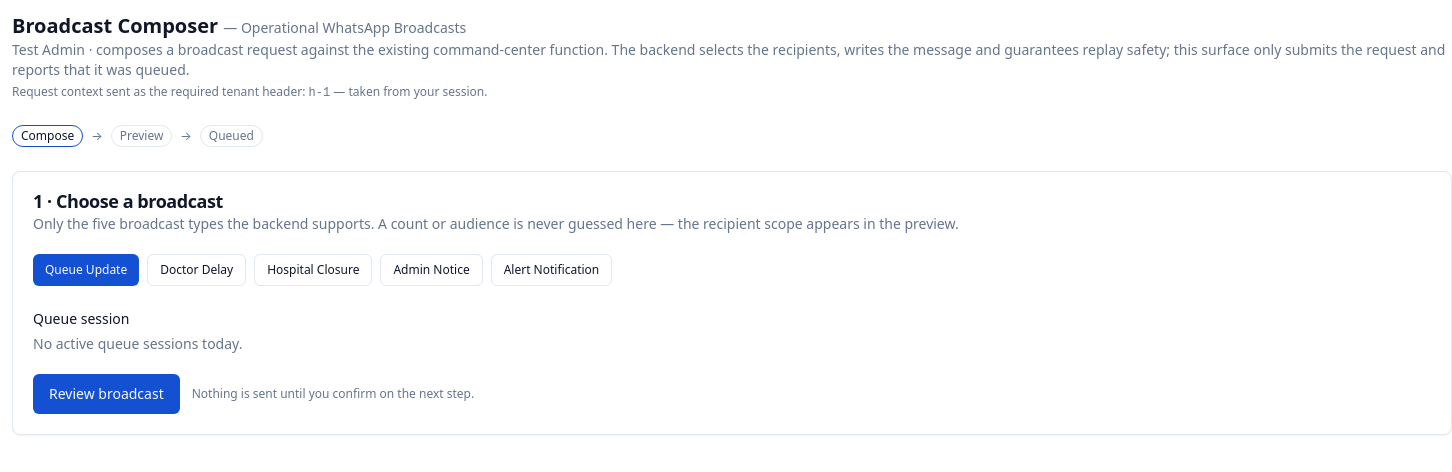
Test: client validation blocks review › queue update without a session shows a field error and stays on compose
What coordinates should you click on to do the following:
click the button with test id "to-preview"
I would click on:
 (106, 394)
Its box is x1=33 y1=374 x2=180 y2=414.
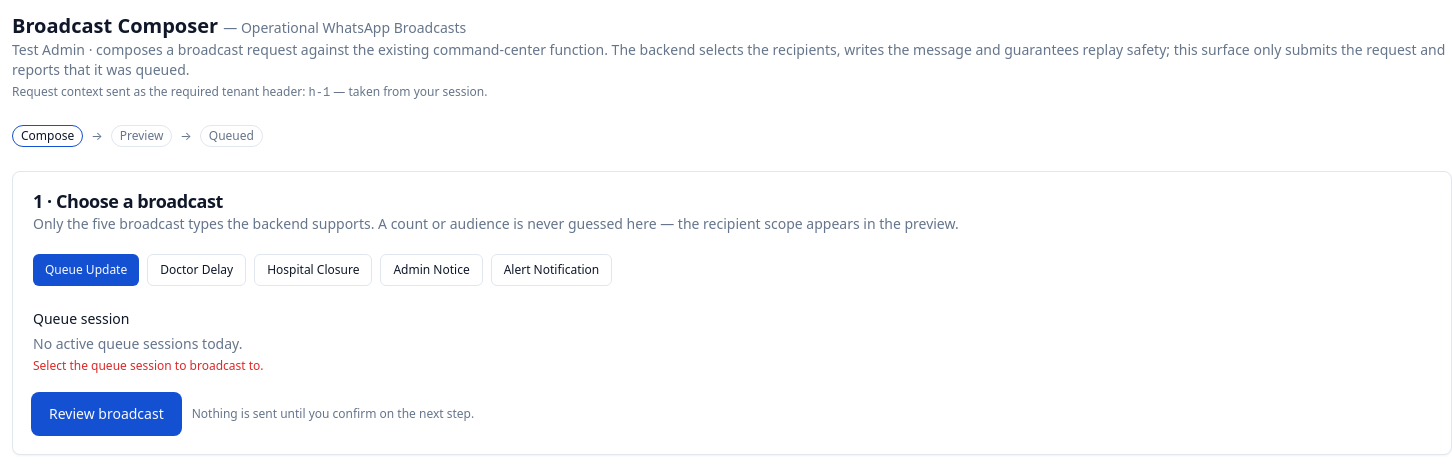
Now the message "Select the queue session to broadcast to." is shown, box x1=33 y1=357 x2=264 y2=374
